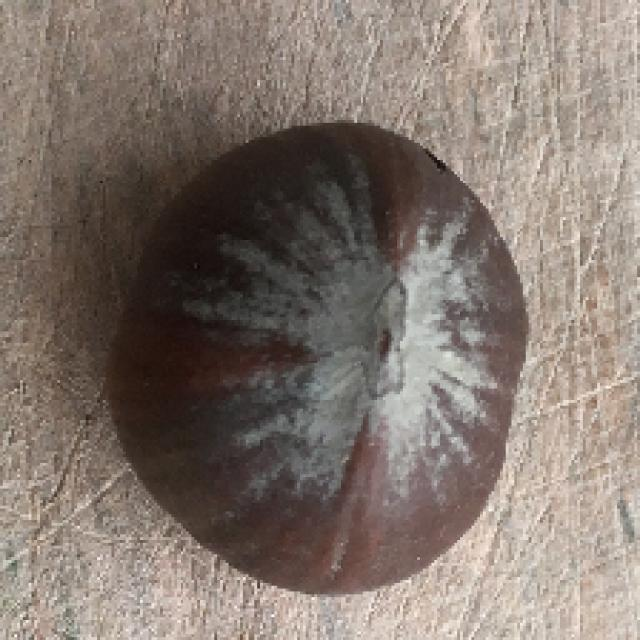DamagedHazelnut: (109, 122, 530, 595)
